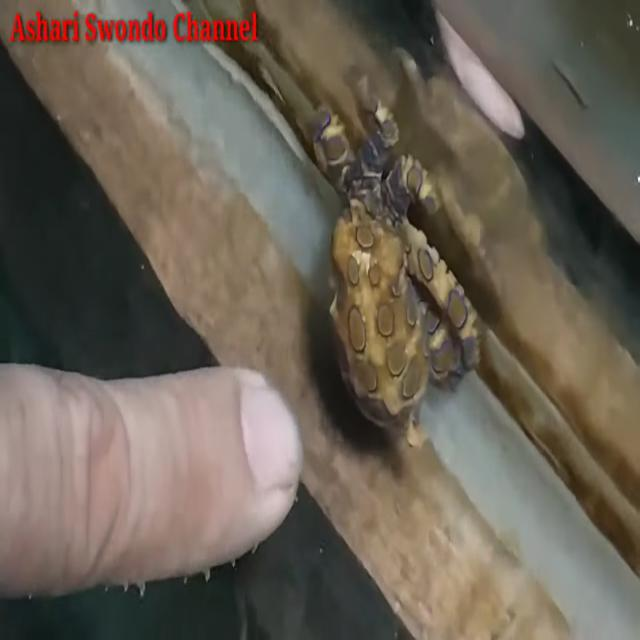blue_ringed_octopus: (310, 72, 480, 450)
